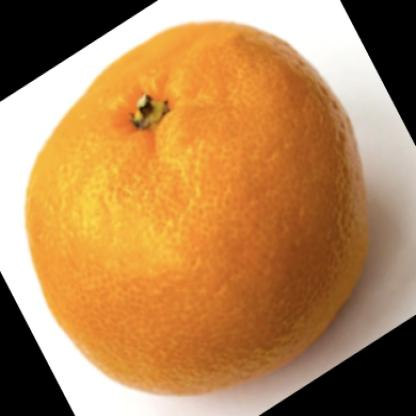fresh: (26, 21, 369, 394)
